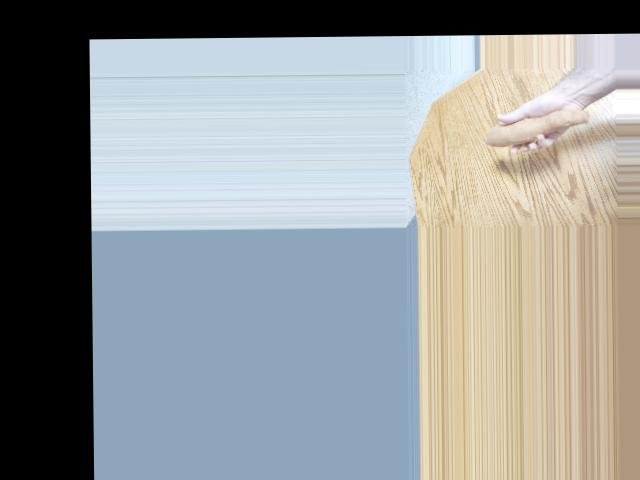sweet_potato: (483, 108, 587, 147)
